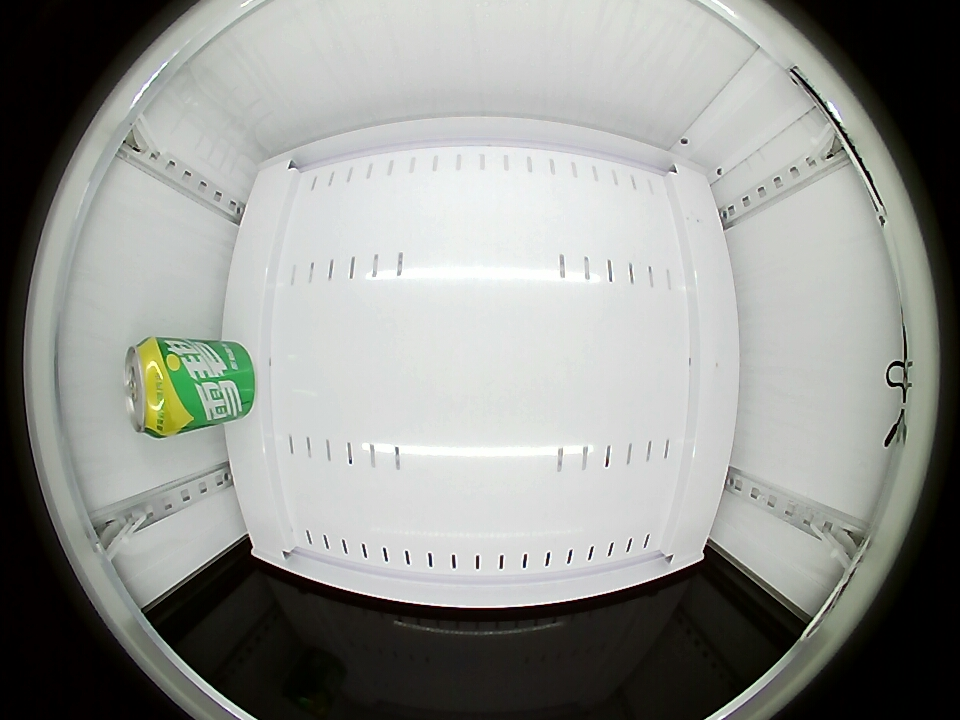xuebi2: (124, 336, 188, 439)
